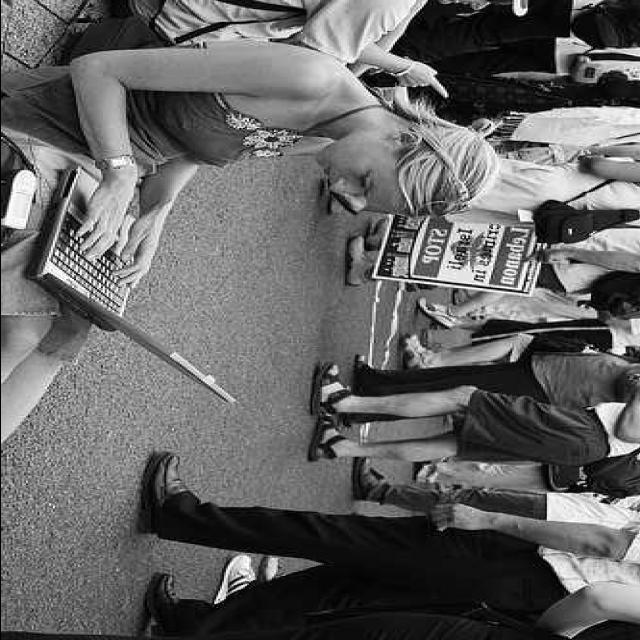laptop: (27, 165, 230, 416)
